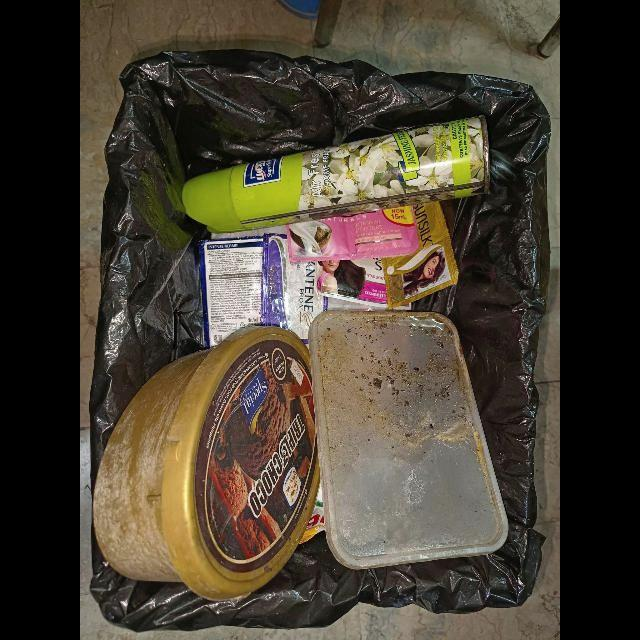aluminum: (182, 115, 490, 233)
plastic_container: (93, 326, 321, 602), (308, 309, 509, 572)
plastic_sachet: (381, 201, 459, 310), (261, 233, 328, 350), (286, 205, 420, 263), (199, 236, 263, 349), (317, 258, 388, 307)
